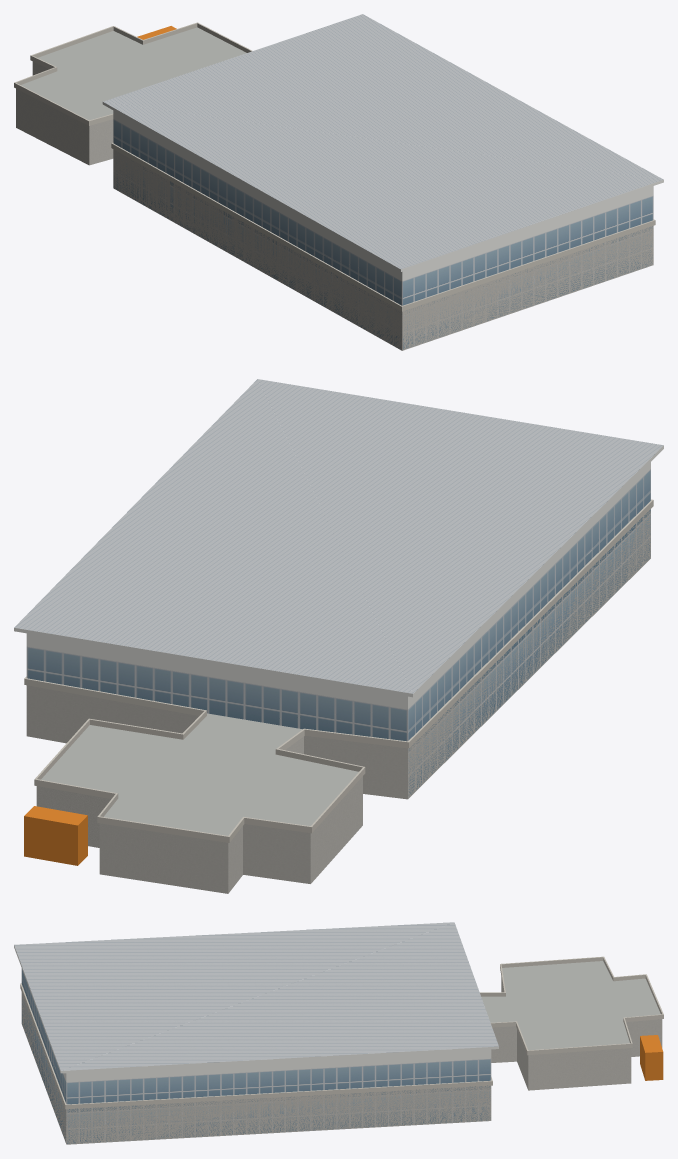
Rendered from shuiyunfang.glb.
3 views of the same model, one above another, from view 1: azimuth 30°, elevation 25°; view 2: azimuth 150°, elevation 25°; view 3: azimuth 270°, elevation 25° (orthographic). The views are drawn at different scales.
Parts seen in each view (by area): view 1: 水云方; view 2: 水云方; view 3: 水云方.
Boxes of the visible parts, x1,y1,x2,y2 form: 水云方: [14, 14, 663, 350]; 水云方: [14, 379, 663, 893]; 水云方: [14, 922, 663, 1144].
Bounding box in the file's own units: 53.07 × 12.6 × 96.52.
7 materials, 3 textured.
